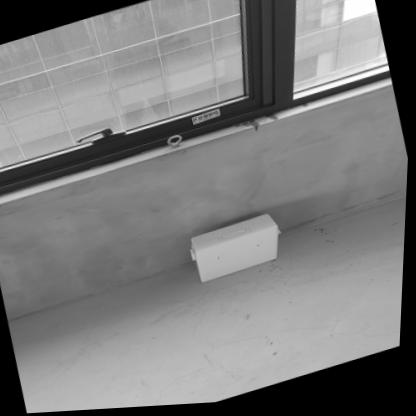DDL: (188, 213, 293, 288)
